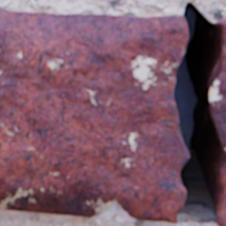broken_brick: (0, 10, 188, 221), (208, 18, 225, 152), (216, 156, 225, 225)
crack: (172, 1, 225, 224)
